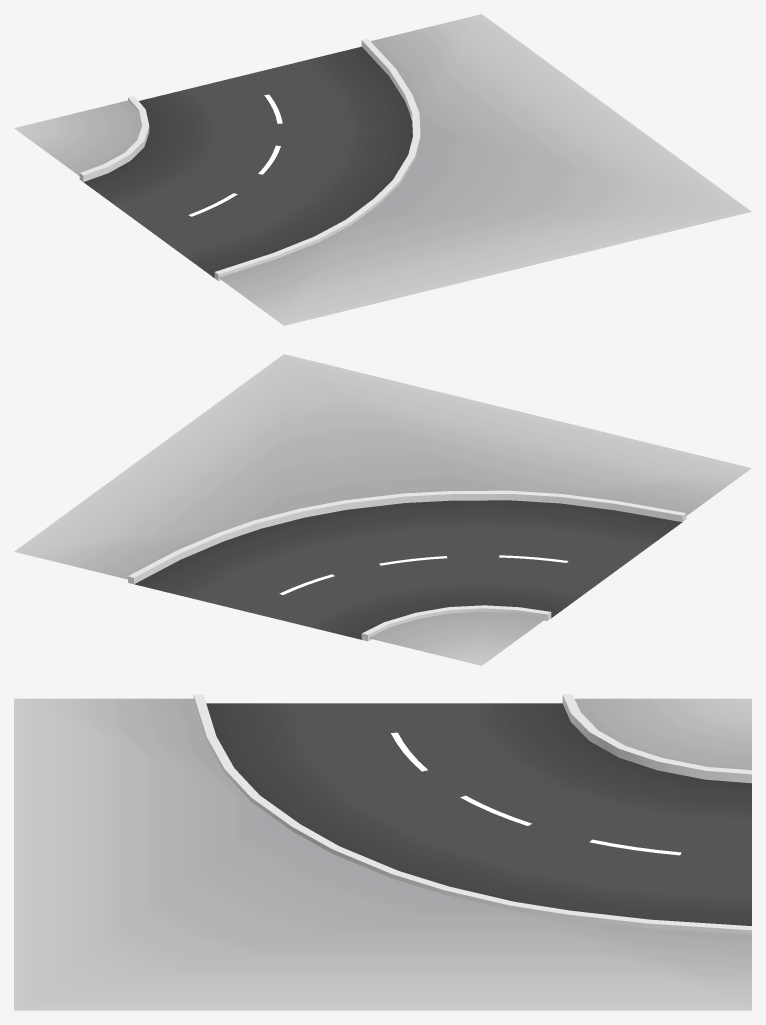
File: city2-road-013.glb
The picture shows the model from 3 angles, top to bottom: view 1: azimuth 30°, elevation 25°; view 2: azimuth 150°, elevation 25°; view 3: azimuth 270°, elevation 25°; orthographic projection. The views are drawn at different scales.
Visible parts, largest first — view 1: road_013; view 2: road_013; view 3: road_013.
Part boxes in pixels (left/top/right/bottom): road_013: left=14, top=14, right=751, bottom=325; road_013: left=14, top=354, right=751, bottom=665; road_013: left=14, top=694, right=751, bottom=1010.
Size of the model in its own units: 15 by 0.2 by 15.
Materials: 1 (1 with a texture image).
